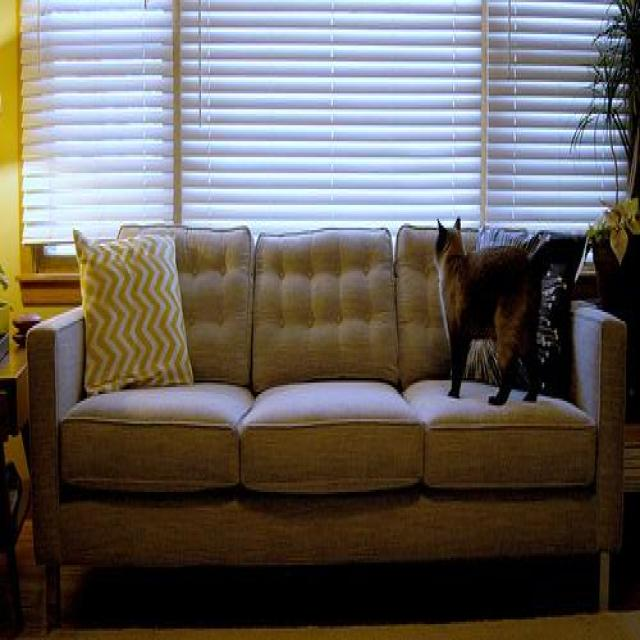sofa: (26, 218, 627, 628)
